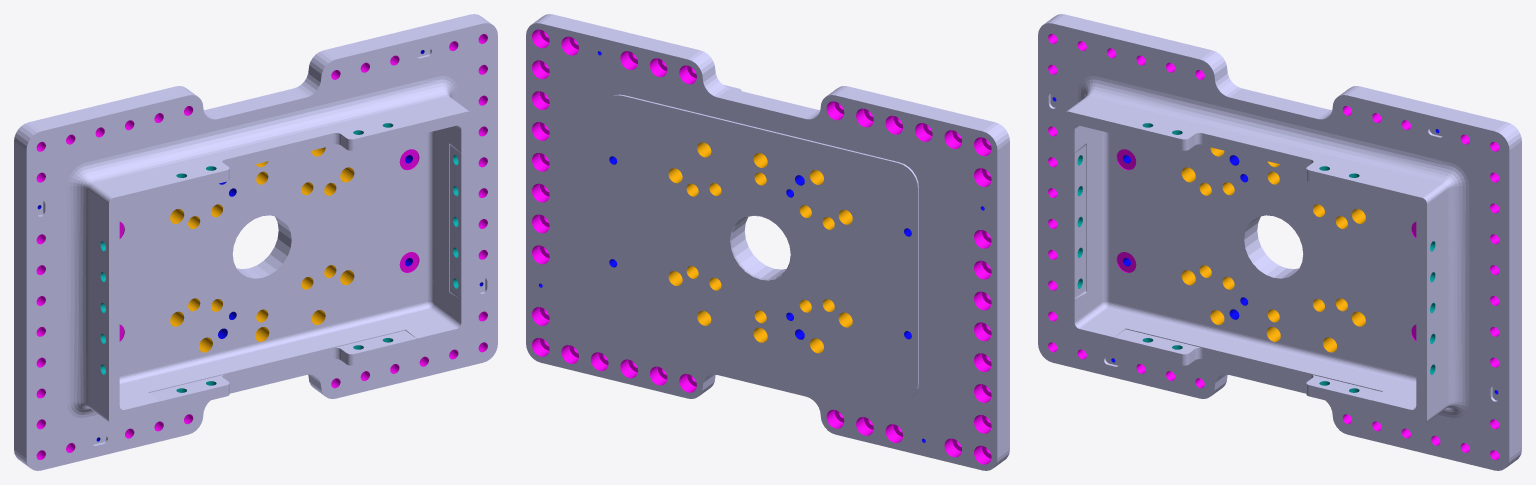
Rendered from World_sticktool_sticktool__2_30D_355619_________0500_________K00_EGT016_1_H_RAH_300X450_SW80__2_30D_355619_________0500_________K00_EGT016_1_H_RAH_300X450_SW80.obj.
3 renders of one model, left to right at view 1: azimuth 30°, elevation 25°; view 2: azimuth 150°, elevation 25°; view 3: azimuth 330°, elevation 25°, orthographic.
Size of the model in its own units: 0.48 by 0.33 by 0.074.
